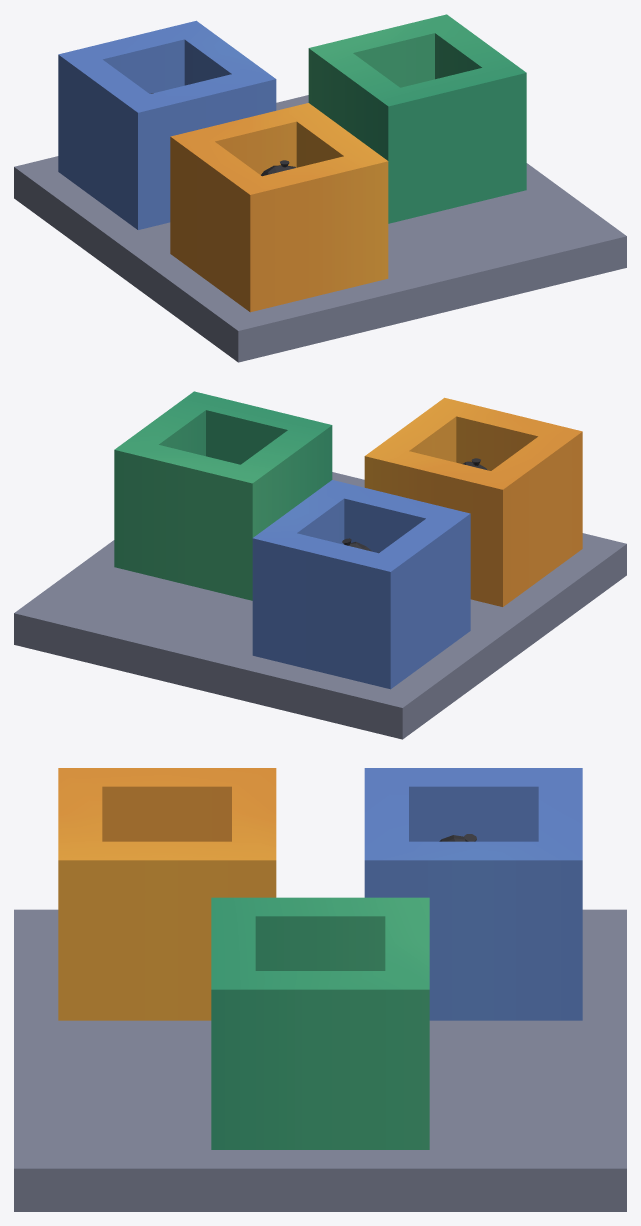
The model's file is waste_disposal_split.glb.
The picture shows the model from 3 angles, top to bottom: view 1: azimuth 30°, elevation 25°; view 2: azimuth 150°, elevation 25°; view 3: azimuth 270°, elevation 25°; orthographic projection. The views are drawn at different scales.
Parts seen in each view (by area): view 1: WasteDisposalSplit; view 2: WasteDisposalSplit; view 3: WasteDisposalSplit.
Boxes of the visible parts, <box> form: WasteDisposalSplit: <box>14,14,626,362</box>; WasteDisposalSplit: <box>14,391,626,739</box>; WasteDisposalSplit: <box>14,768,626,1211</box>.
Bounding box in the file's own units: 0.6929 × 0.2538 × 0.6929.
Materials: 2 (2 with a texture image).
